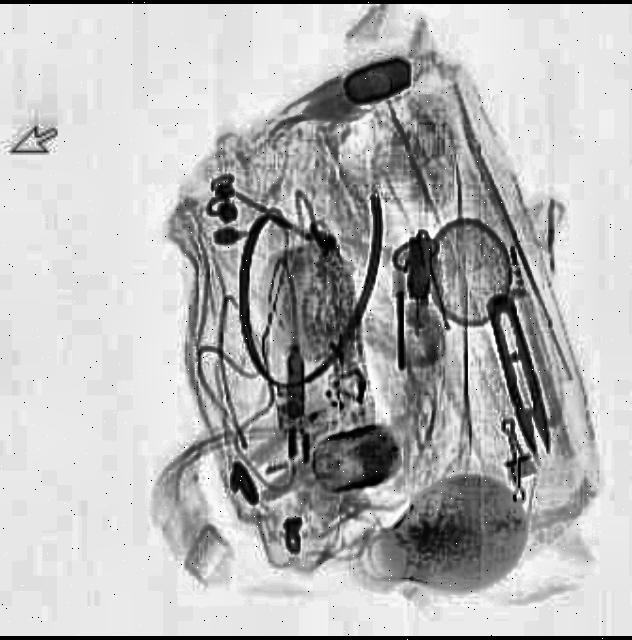Scissors: (478, 294, 554, 464)
